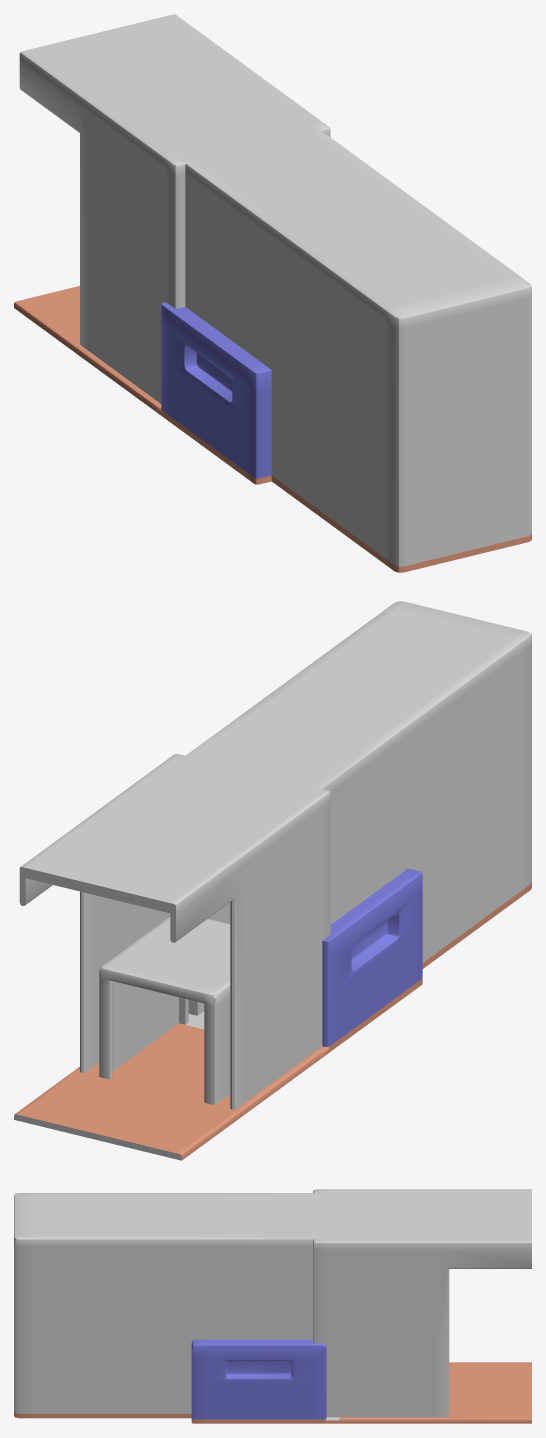
File: OvenEnd.fbx
3 renders of one model, top to bottom at view 1: azimuth 30°, elevation 25°; view 2: azimuth 150°, elevation 25°; view 3: azimuth 270°, elevation 25°, orthographic. The views are drawn at different scales.
Visible parts, largest first — view 1: EndOven; view 2: EndOven; view 3: EndOven.
Part boxes in pixels (left/top/right/bottom): EndOven: left=14, top=14, right=531, bottom=572; EndOven: left=14, top=601, right=531, bottom=1160; EndOven: left=14, top=1189, right=531, bottom=1423.
Bounding box in the file's own units: 3.29 × 4.78 × 12.53.
